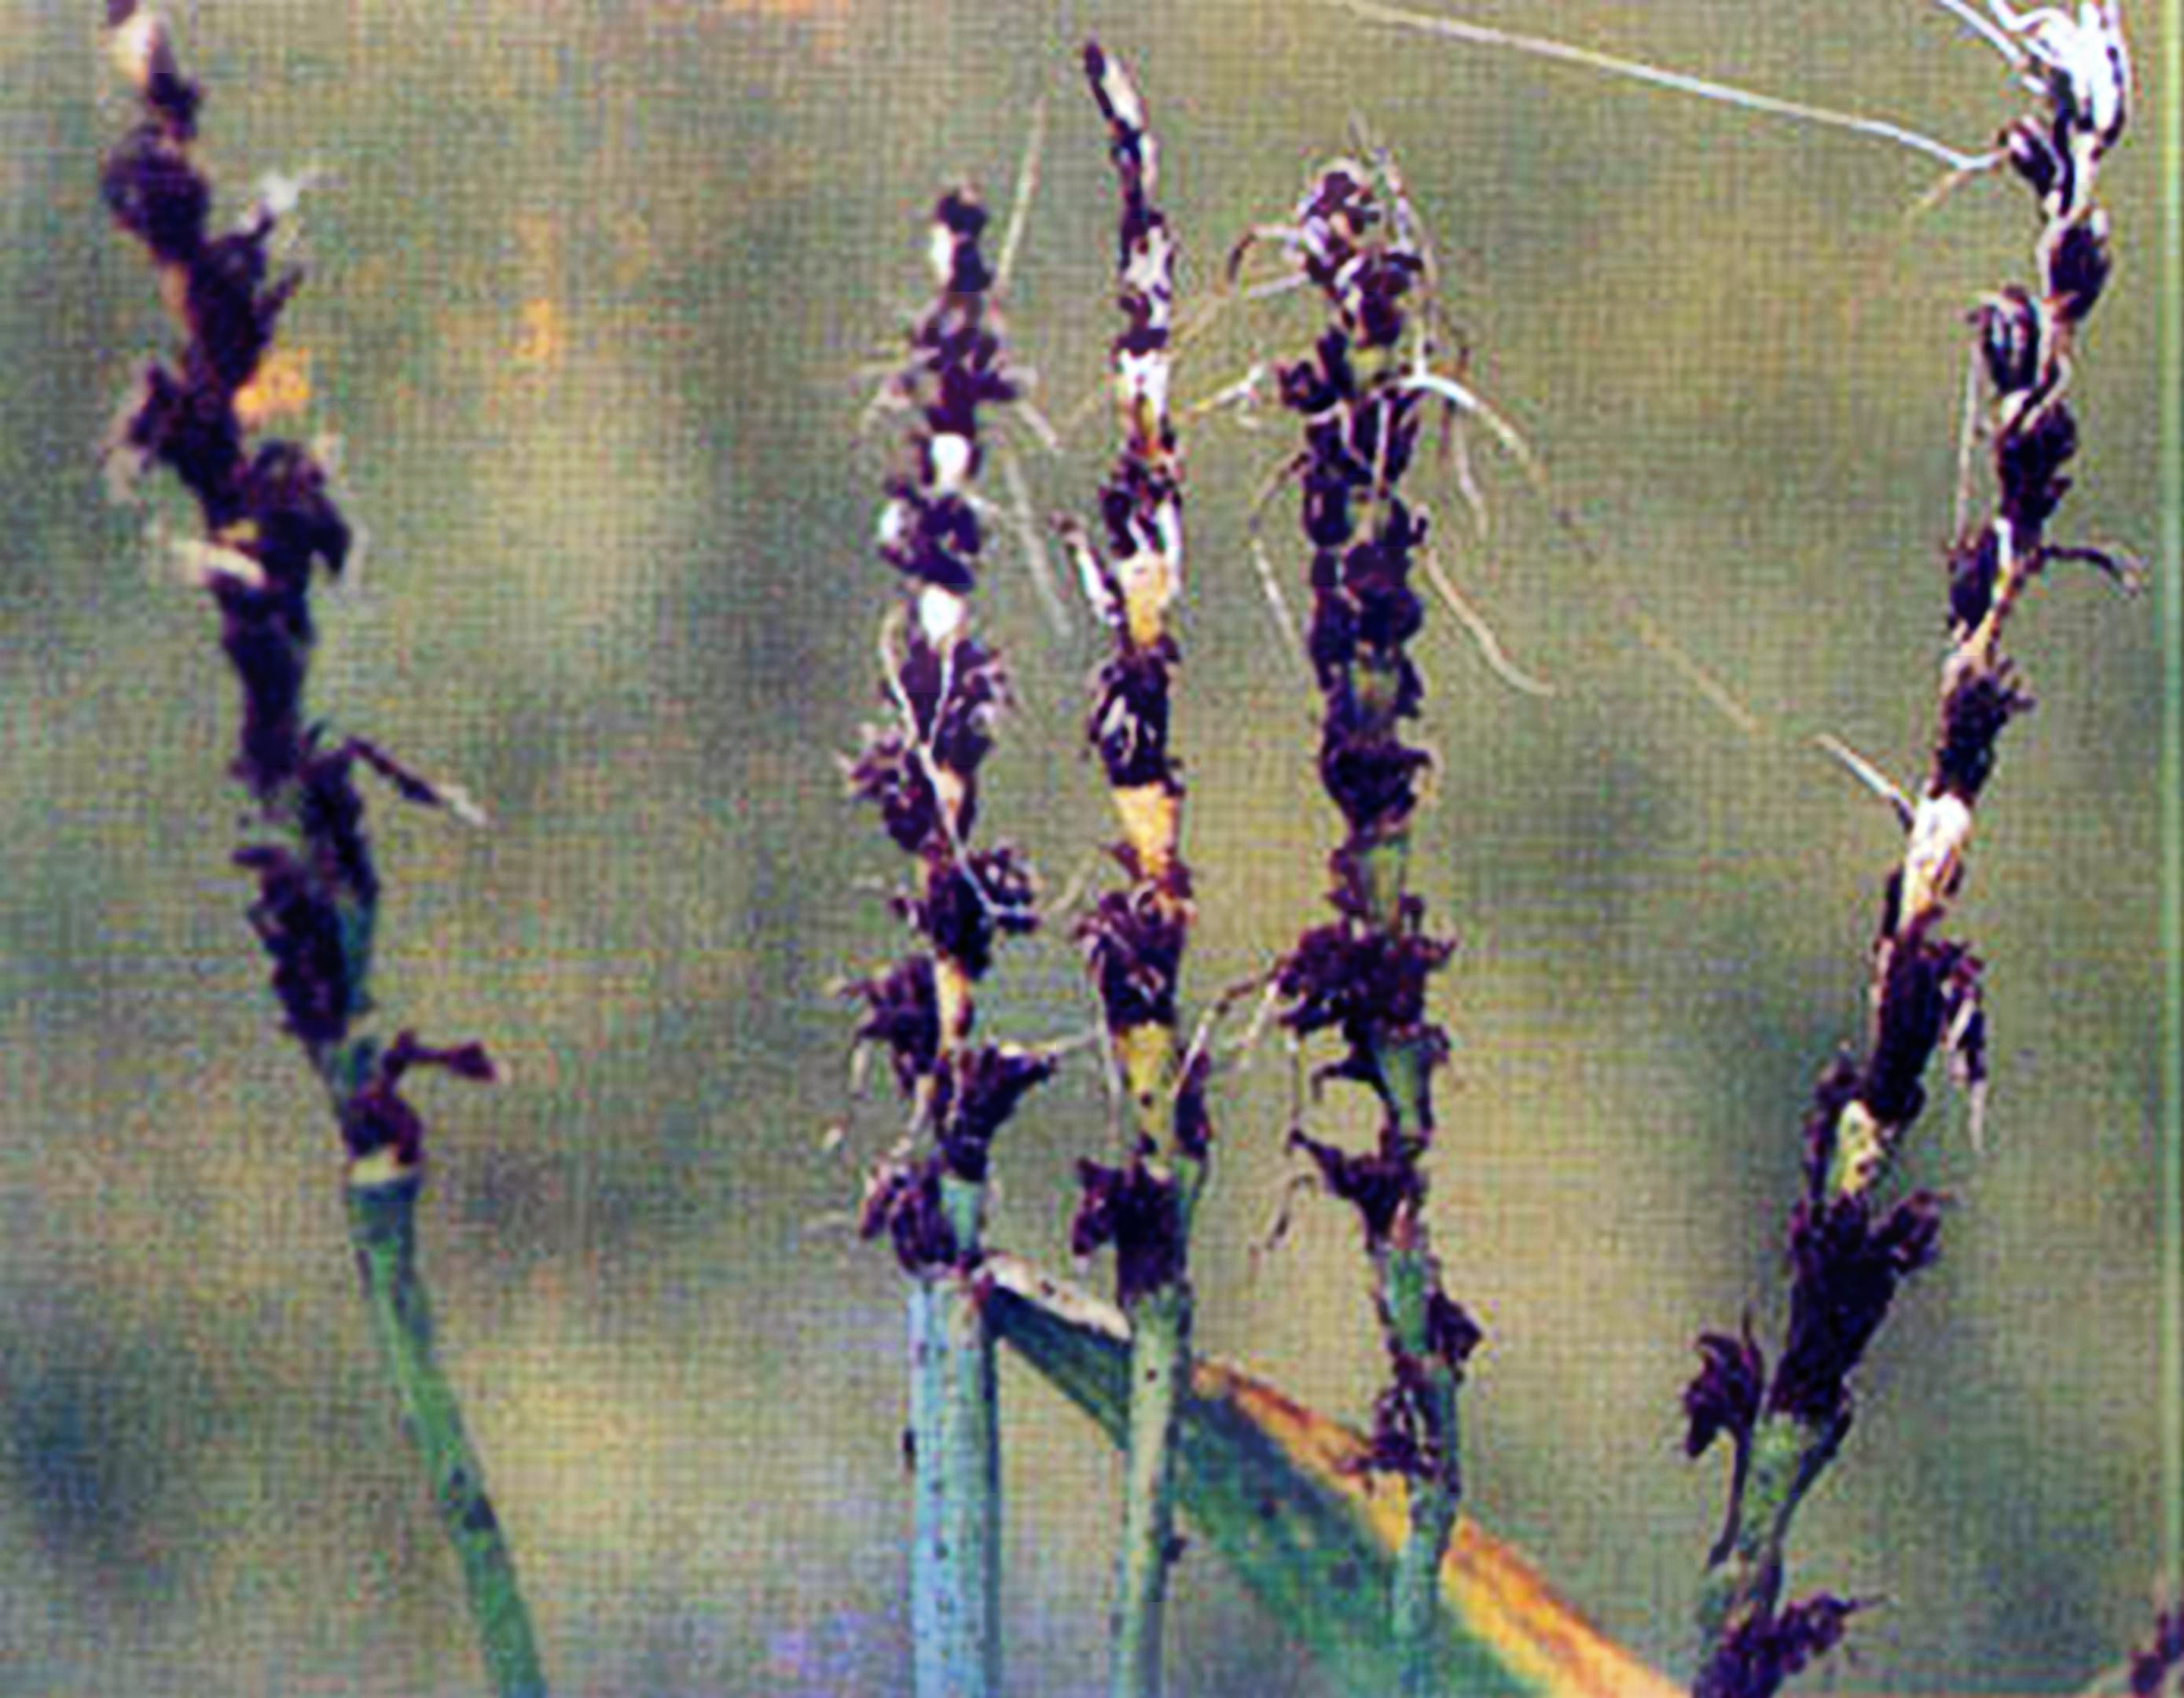Wheat Loose Smut: (794, 142, 1532, 1301)
